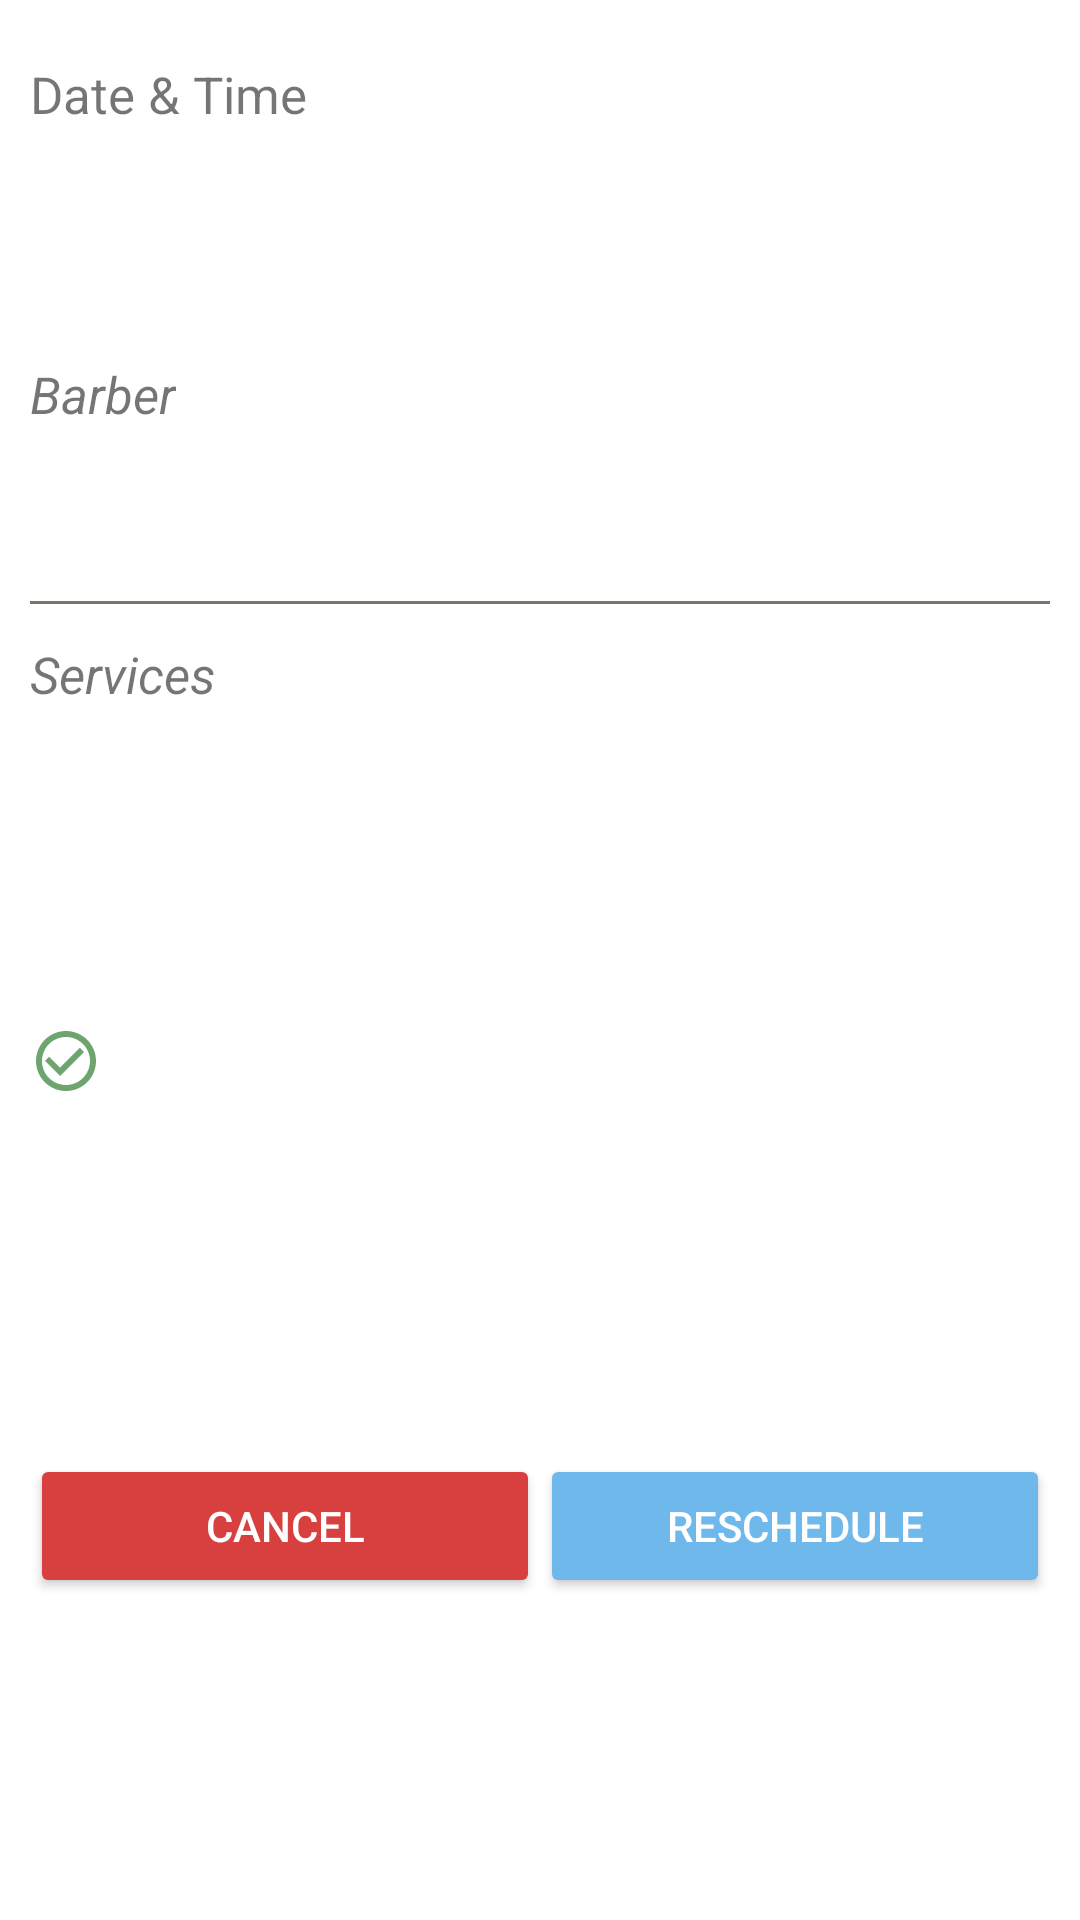

Icons on this 1080px x 1920px Android screen, each with the point to tap as (x=x, y=y):
check circle: (x=66, y=1061)
